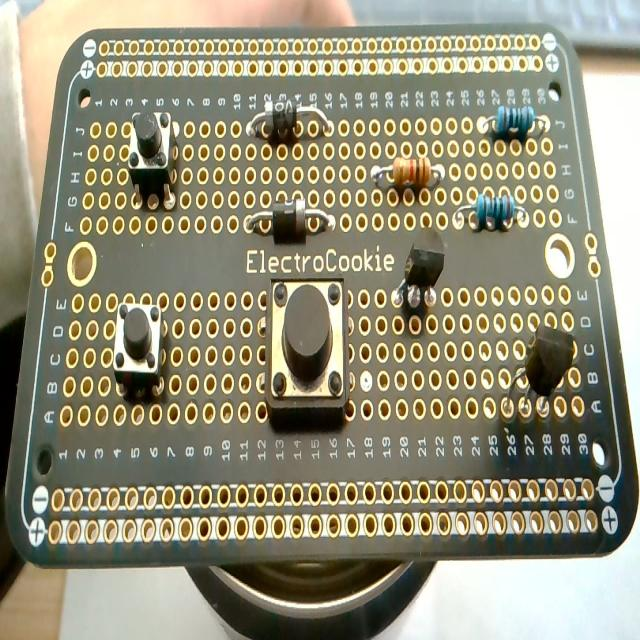diode: (246, 96, 334, 141), (244, 196, 335, 239)
resistor: (454, 192, 528, 234), (376, 156, 440, 192), (494, 104, 536, 140)
switch: (265, 275, 349, 417), (126, 108, 179, 209), (111, 300, 162, 392)
transistor: (503, 321, 578, 424), (391, 235, 448, 318)
